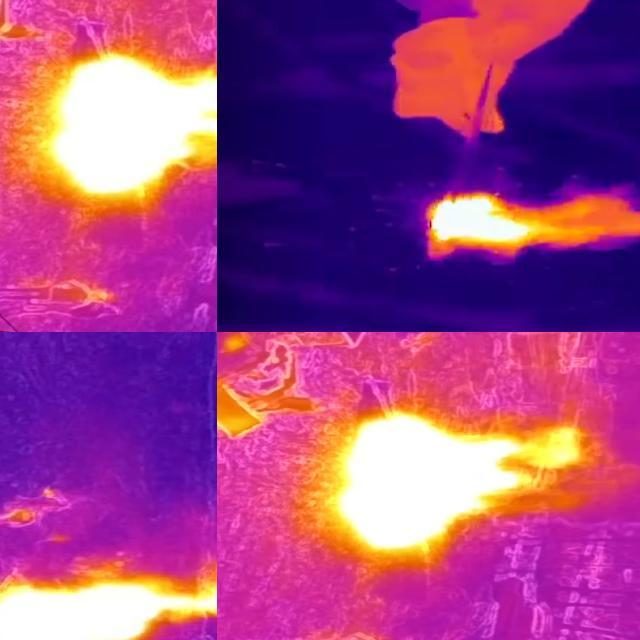fire: (328, 413, 542, 555), (40, 53, 218, 197), (423, 192, 625, 262), (1, 577, 218, 640)
